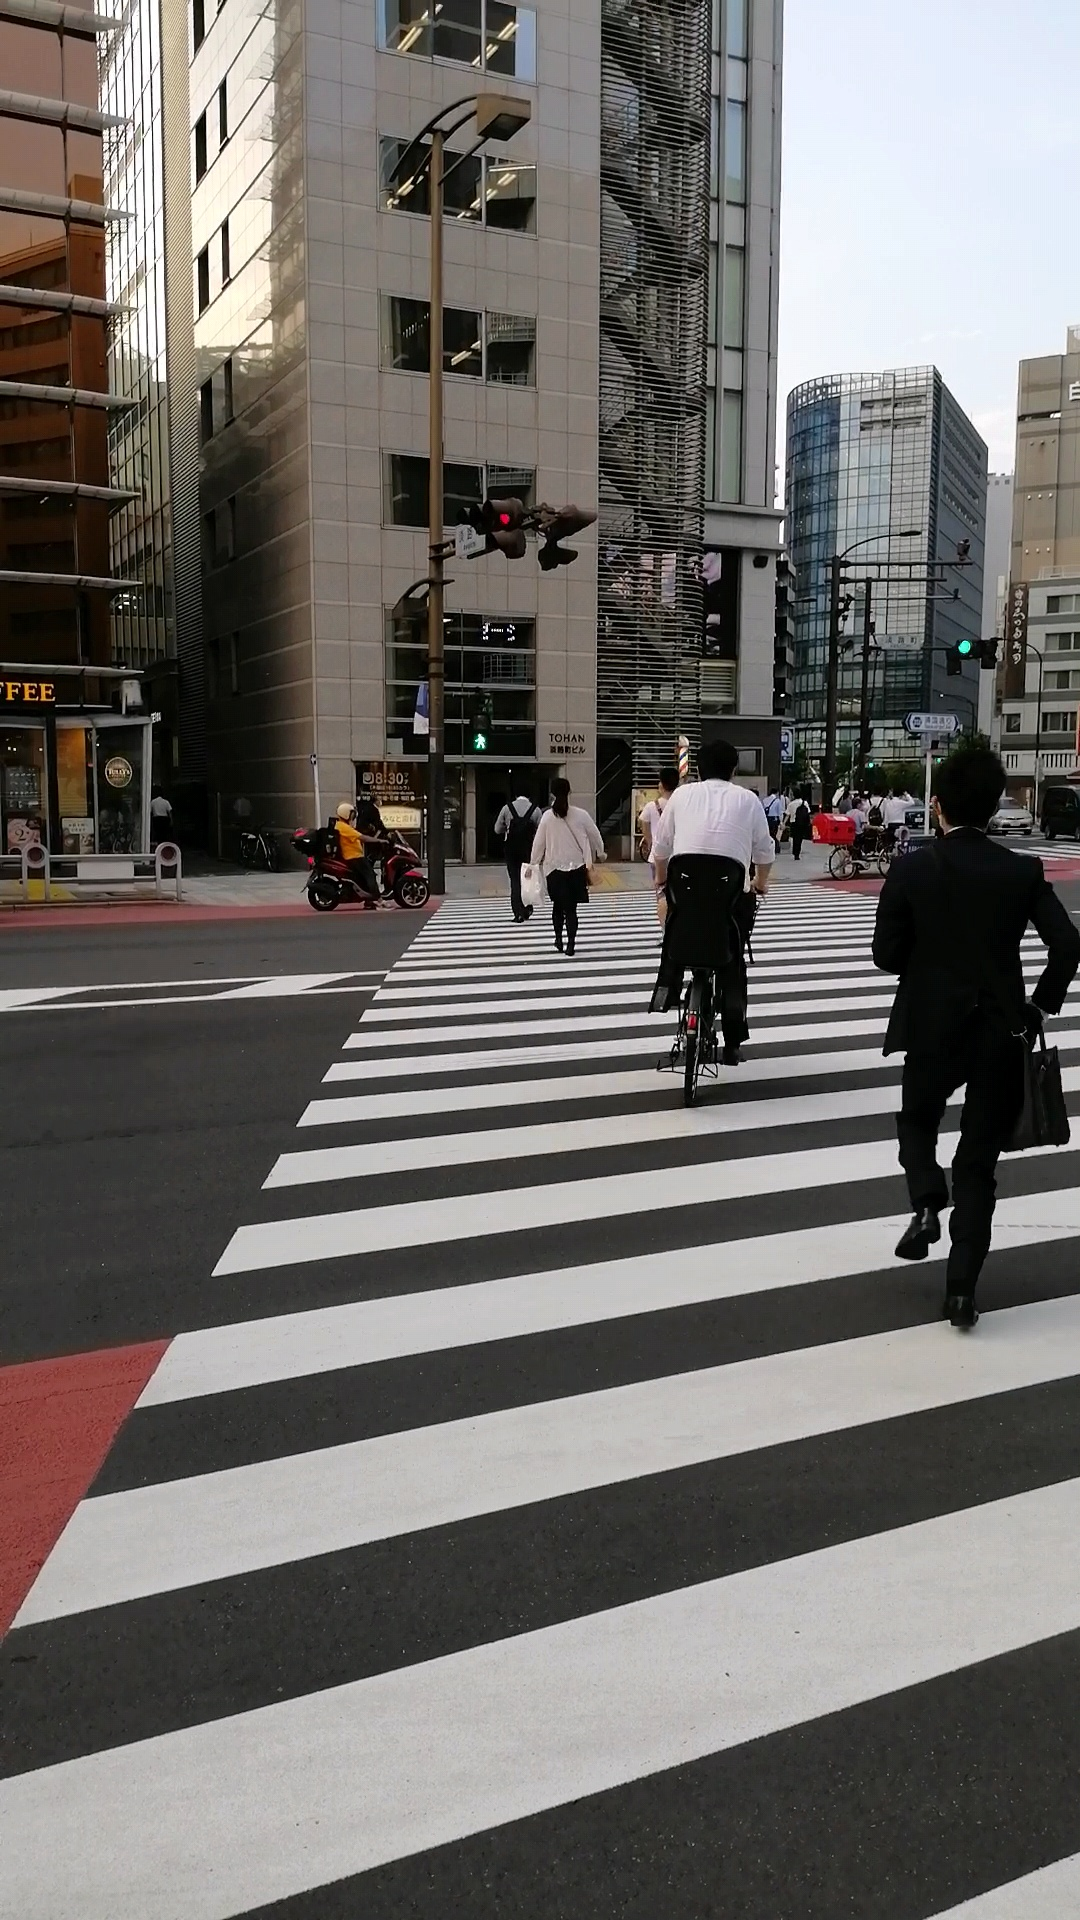green: (468, 709, 492, 756)
